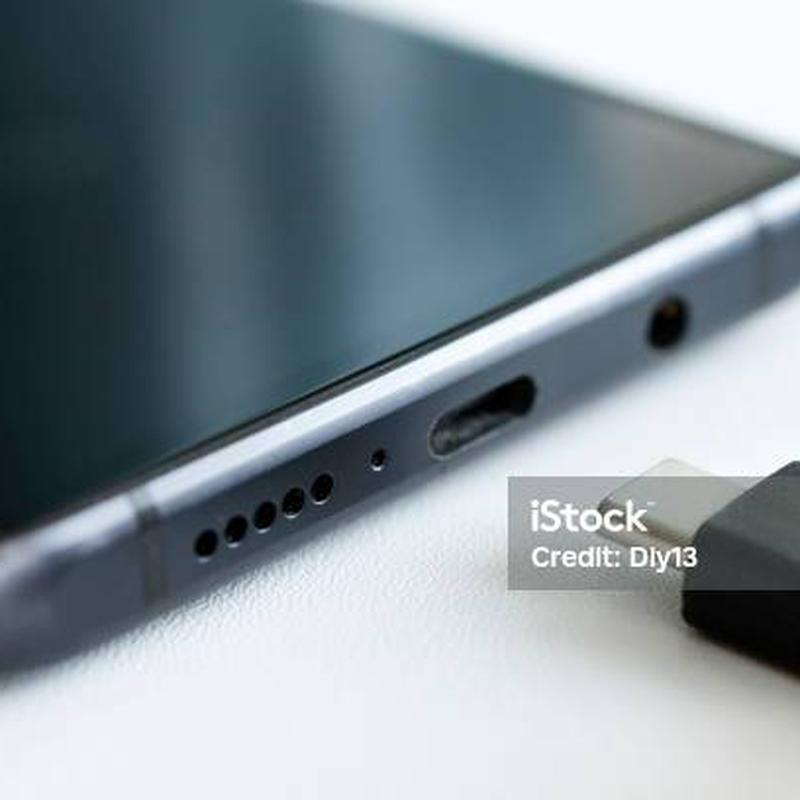AUDIO_OUTPUT: (625, 275, 722, 375)
USBC: (401, 364, 548, 469)
